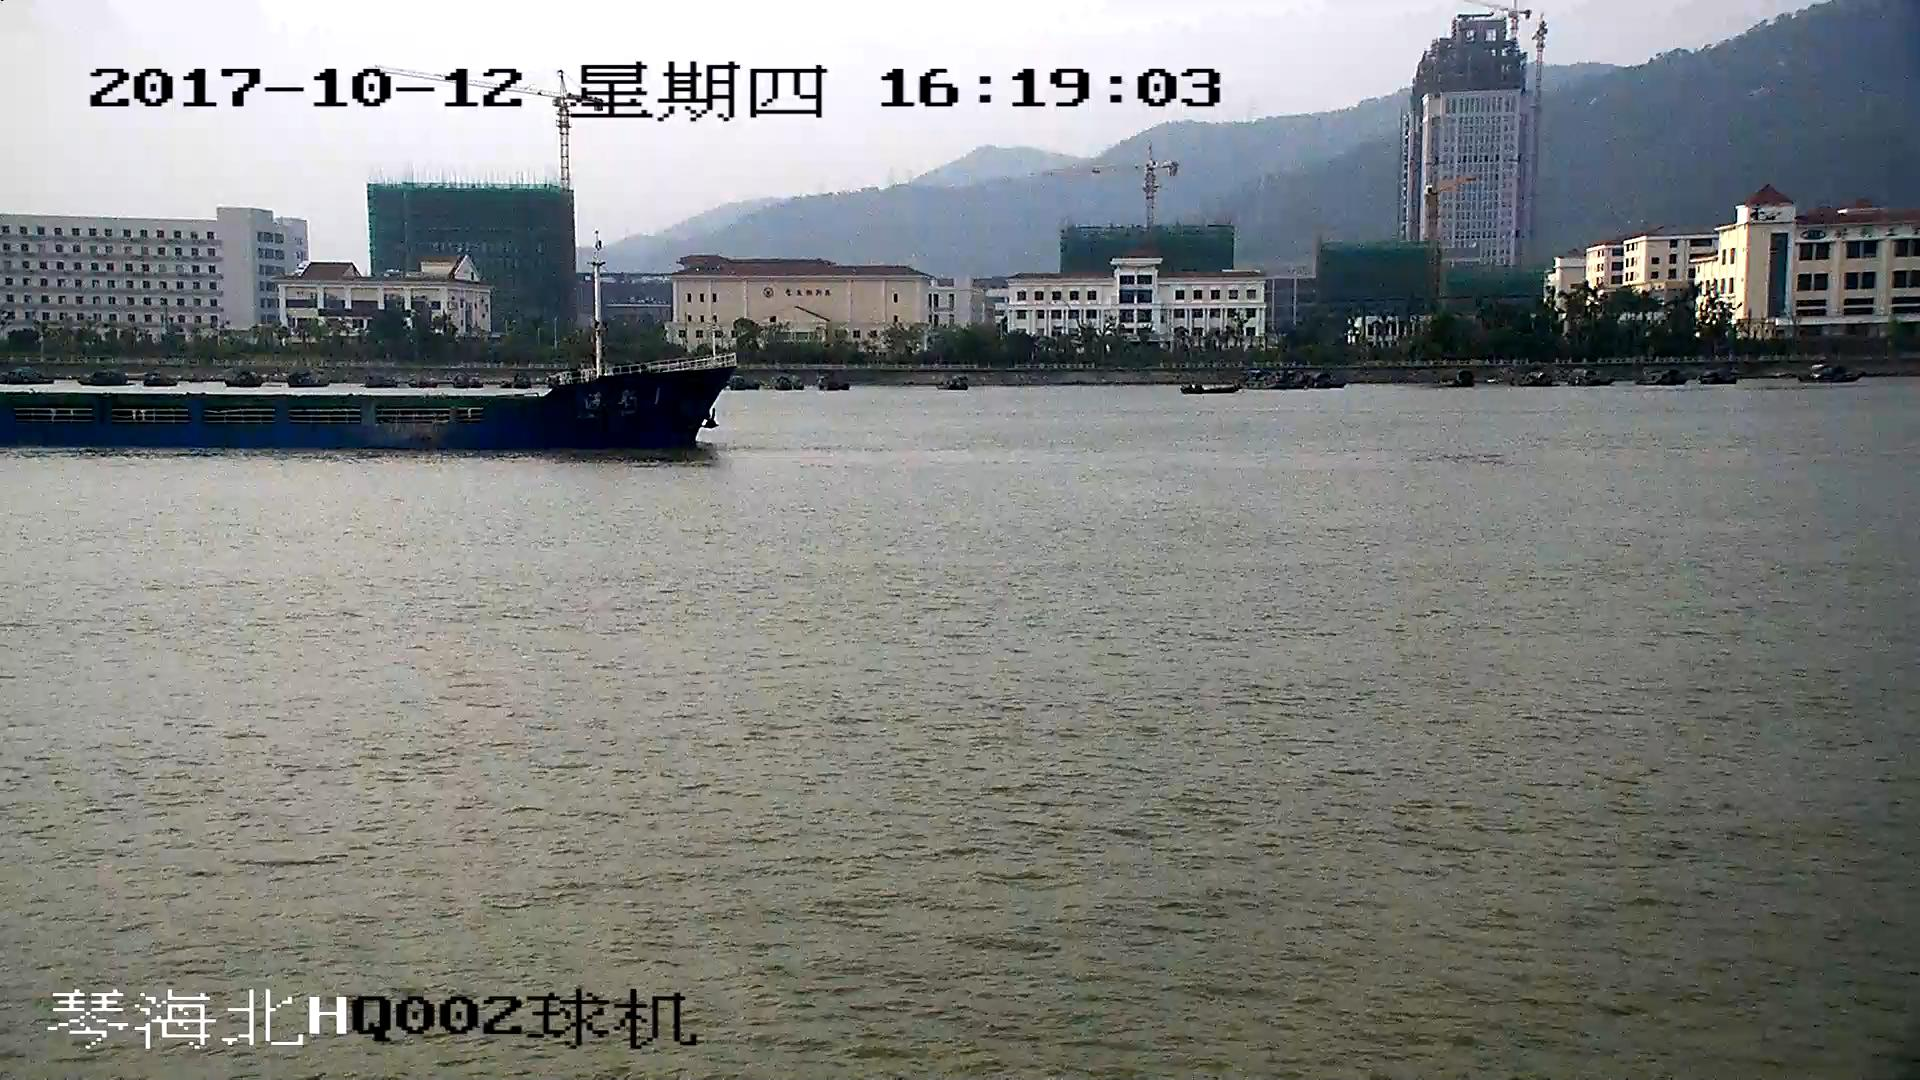general cargo ship: (1, 344, 729, 455)
